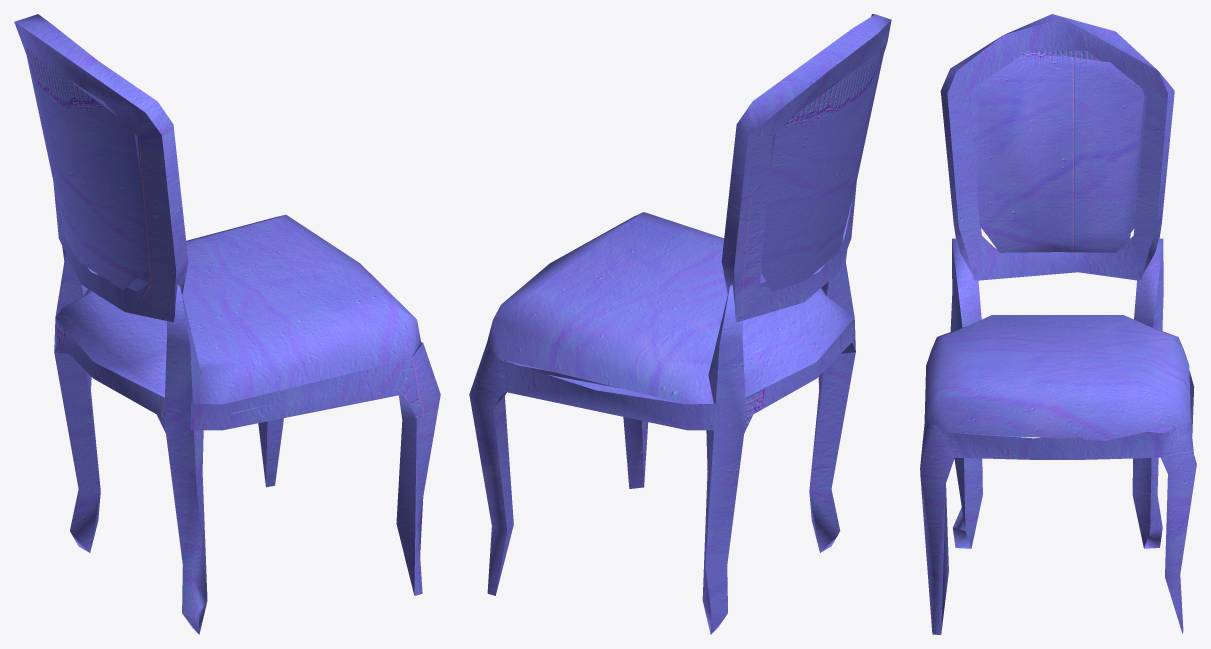
File: SM_Chair_Lod2.fbx
3 renders of one model, left to right at view 1: azimuth 30°, elevation 25°; view 2: azimuth 150°, elevation 25°; view 3: azimuth 270°, elevation 25°, orthographic. The views are drawn at different scales.
Parts seen in each view (by area): view 1: SM_Chair_Lod2; view 2: SM_Chair_Lod2; view 3: SM_Chair_Lod2.
Part boxes in pixels (x1=…): SM_Chair_Lod2: x1=14, y1=14, x2=440, y2=634; SM_Chair_Lod2: x1=469, y1=14, x2=891, y2=634; SM_Chair_Lod2: x1=920, y1=14, x2=1196, y2=634.
Bounding box in the file's own units: 61.65 × 104 × 52.87.
1 material, 1 textured.
